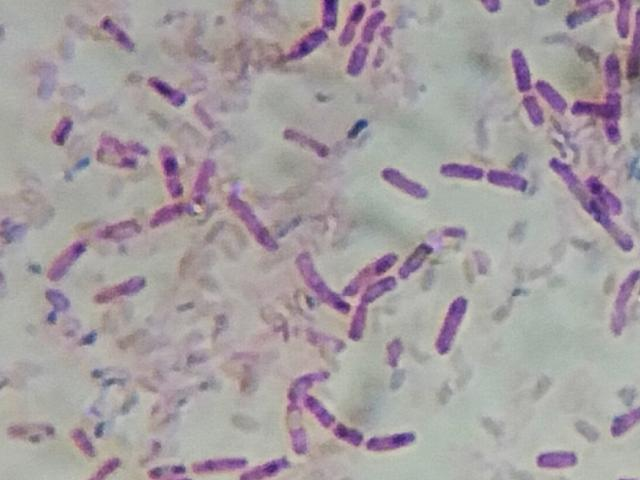E. coli: (226, 190, 286, 253), (588, 205, 634, 259), (296, 253, 342, 307), (611, 260, 640, 342), (436, 290, 467, 360), (550, 152, 590, 206), (376, 160, 427, 200), (96, 273, 152, 309), (43, 239, 89, 282), (279, 120, 327, 161), (145, 73, 193, 112), (586, 169, 625, 214), (93, 12, 138, 51), (281, 399, 313, 453), (401, 239, 441, 281), (189, 153, 220, 207), (93, 130, 134, 170), (49, 110, 88, 152), (285, 27, 329, 64), (359, 249, 402, 283), (369, 429, 425, 455), (442, 157, 490, 186), (153, 199, 191, 234), (243, 456, 296, 480), (608, 403, 640, 441), (535, 75, 567, 113), (489, 165, 530, 194), (531, 447, 577, 472), (565, 0, 611, 25), (138, 460, 194, 480), (602, 93, 624, 143), (105, 210, 138, 243), (342, 43, 373, 78), (303, 389, 334, 423), (156, 142, 177, 192), (198, 452, 244, 474), (343, 302, 368, 341), (509, 47, 531, 91), (363, 2, 389, 39), (289, 369, 330, 392), (93, 455, 130, 480), (356, 275, 395, 298), (332, 419, 361, 447), (68, 425, 94, 456), (628, 11, 640, 77), (338, 2, 358, 40), (576, 97, 609, 120), (521, 94, 543, 128), (314, 0, 340, 27), (476, 0, 505, 23), (614, 0, 630, 35), (604, 49, 614, 86)
